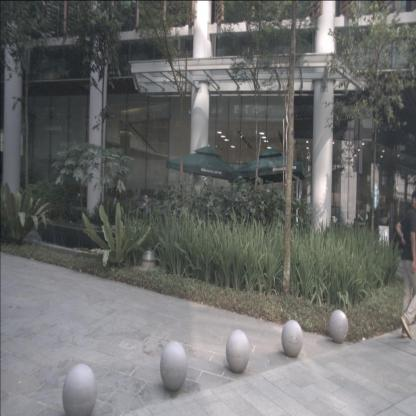human-pedestrian-adult: (395, 188, 416, 340), (141, 194, 153, 233), (355, 212, 363, 239)
